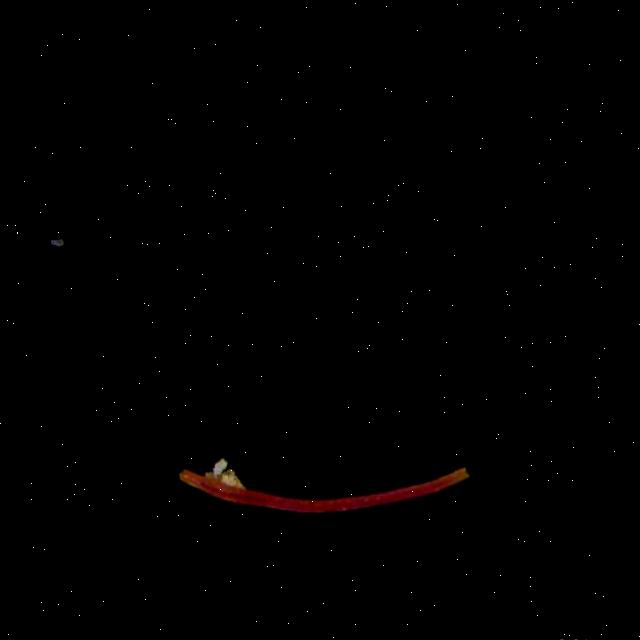Fibre: (173, 438, 474, 524)
